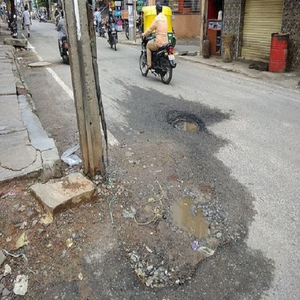pothole: (164, 112, 205, 134)
